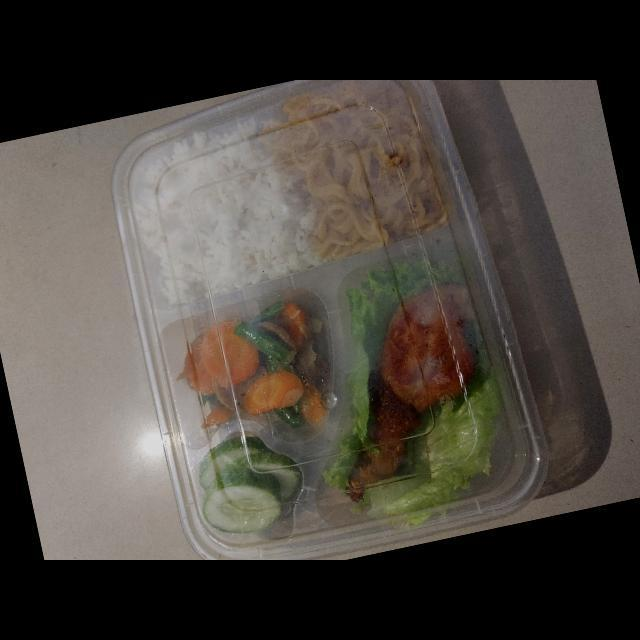bento: (110, 80, 546, 560)
